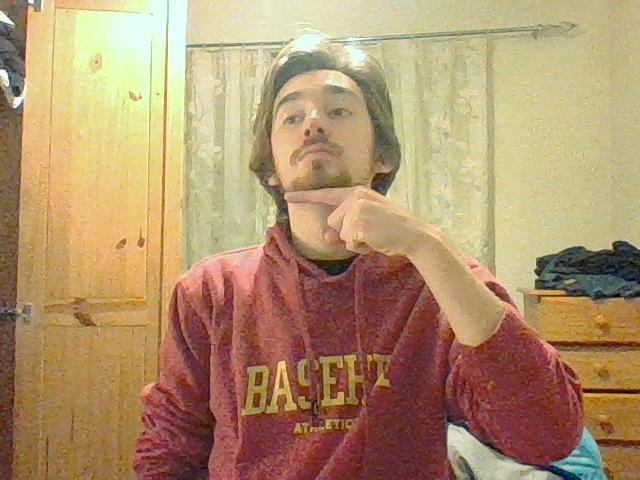son: (282, 184, 382, 247)
